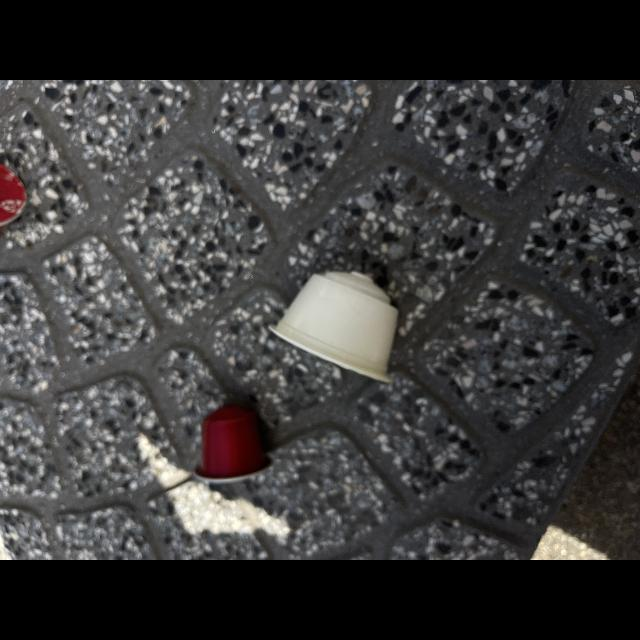intact_capsule: (268, 263, 408, 391), (187, 392, 287, 492)
